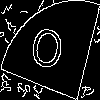O: (25, 24, 67, 82)
